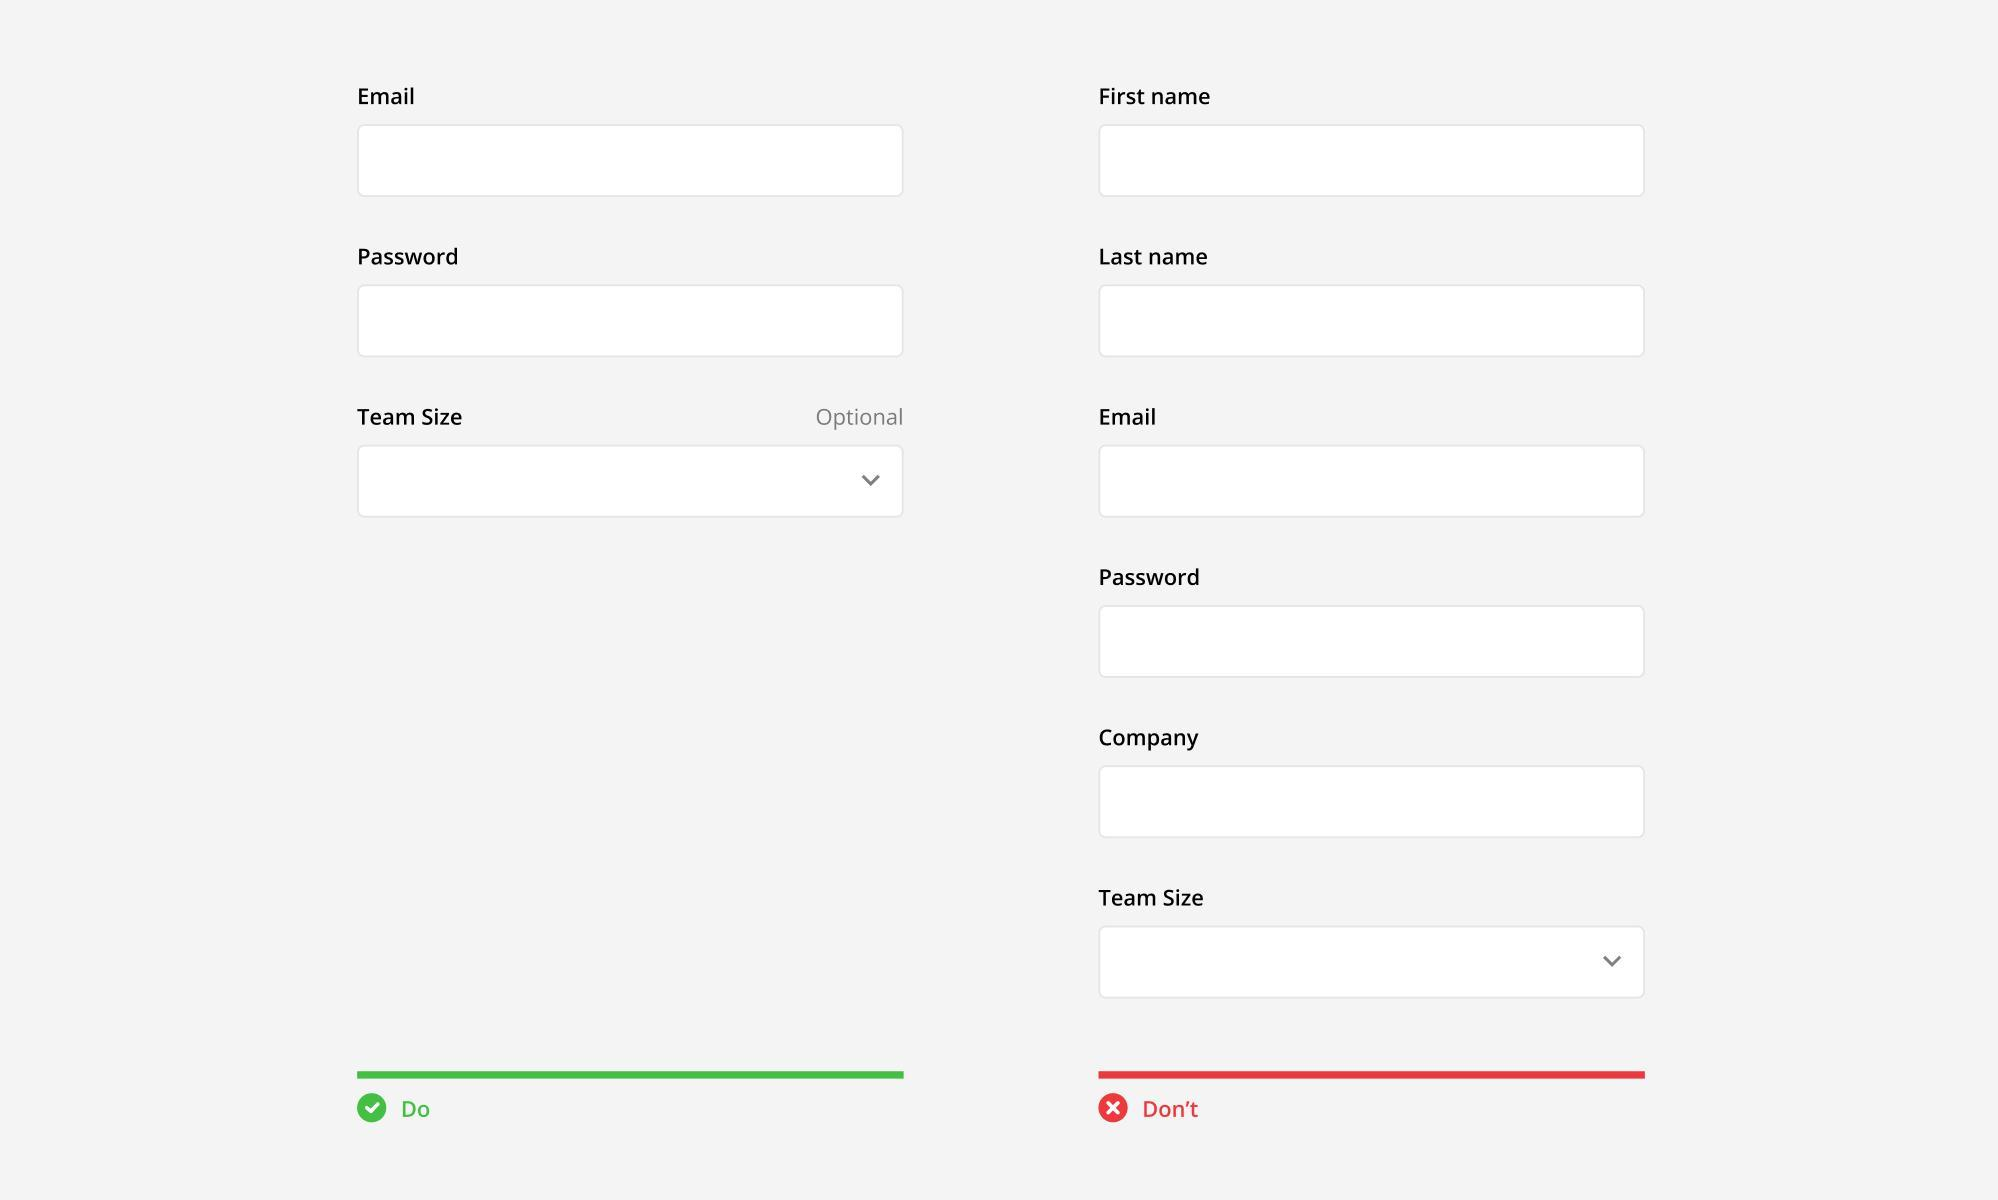dropdown: (360, 444, 903, 518), (1100, 930, 1643, 1000)
icon: (348, 1090, 395, 1129), (1100, 1092, 1140, 1129)
input: (362, 126, 901, 205), (1097, 765, 1643, 840), (1103, 444, 1648, 519), (1100, 128, 1648, 203), (1102, 283, 1644, 357), (1100, 609, 1648, 681), (361, 285, 903, 357)
label: (1100, 878, 1209, 919), (360, 398, 470, 437), (1095, 721, 1205, 758), (1093, 81, 1217, 114), (357, 235, 470, 271), (1090, 243, 1217, 274), (1095, 559, 1206, 595), (803, 402, 913, 432), (1089, 405, 1177, 437), (354, 78, 425, 116), (1140, 1092, 1207, 1129), (400, 1090, 437, 1134)
